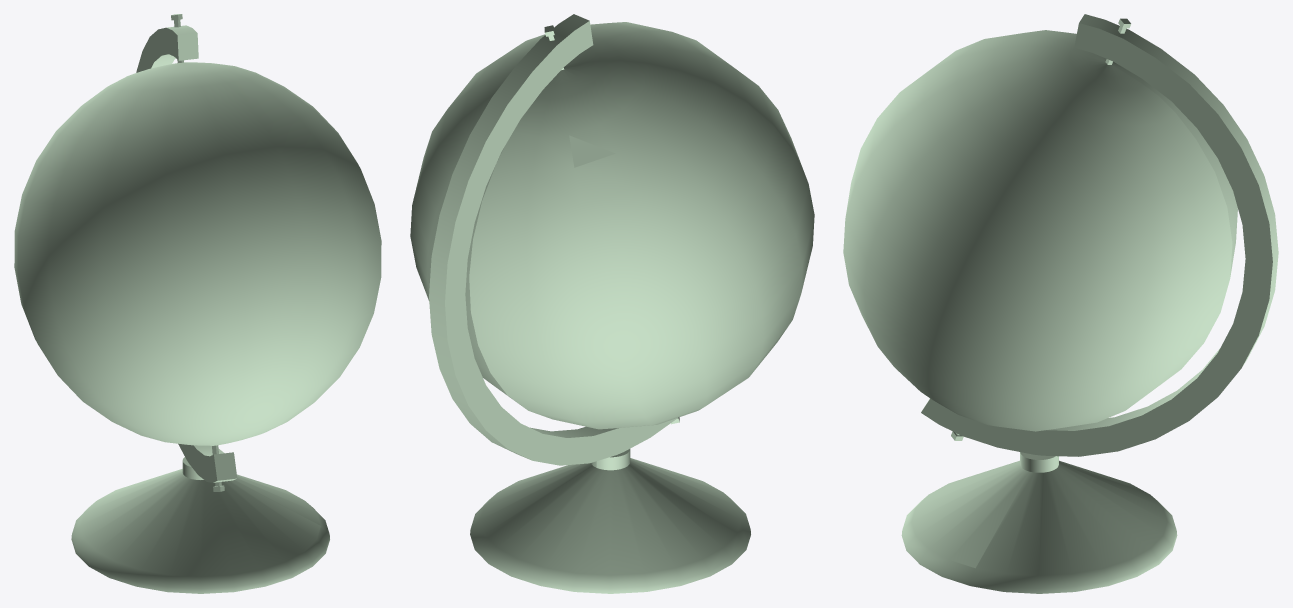
The model's file is 5_material46_mappamondo.fbx.
The picture shows the model from 3 angles, left to right: view 1: azimuth 30°, elevation 25°; view 2: azimuth 150°, elevation 25°; view 3: azimuth 270°, elevation 25°; orthographic projection. The views are drawn at different scales.
Visible parts, largest first — view 1: 5_material46_mappamondo; view 2: 5_material46_mappamondo; view 3: 5_material46_mappamondo.
Part boxes in pixels (x1,y1,x2,y2): 5_material46_mappamondo: (14,14,381,593); 5_material46_mappamondo: (410,14,814,593); 5_material46_mappamondo: (843,14,1278,593).
Bounding box in the file's own units: 211 × 312 × 235.
